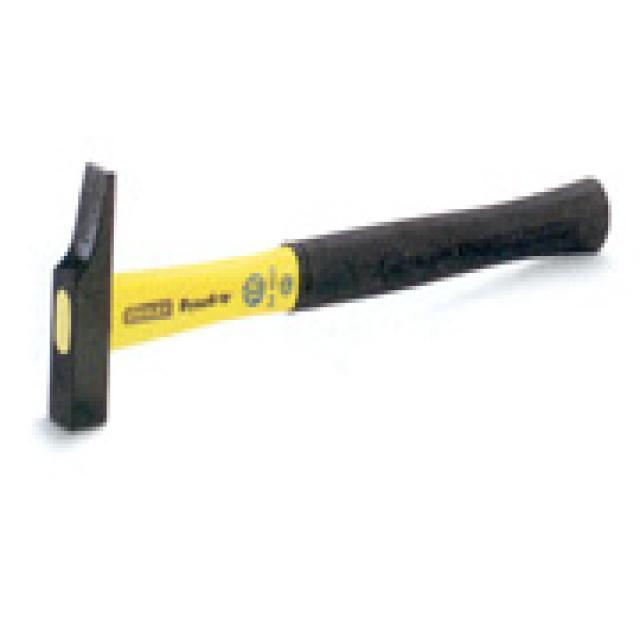hammer: (34, 139, 640, 435)
